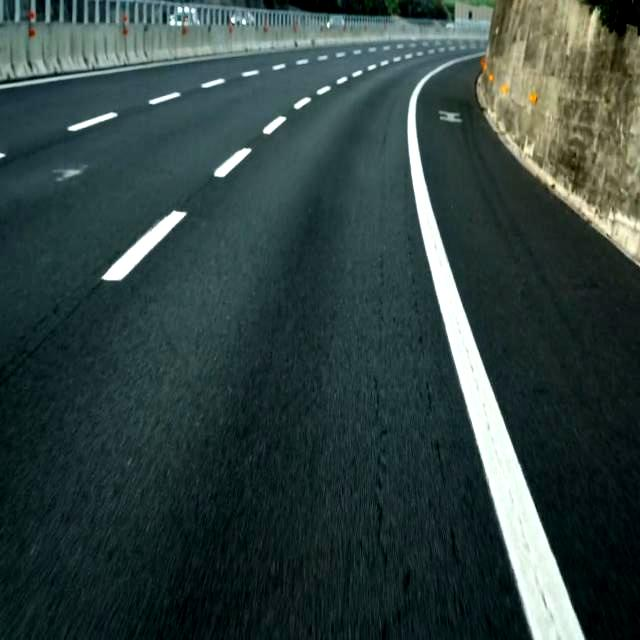lane: (408, 55, 585, 639), (102, 210, 186, 281), (214, 148, 251, 178), (215, 149, 249, 177), (68, 112, 118, 131), (262, 116, 286, 135), (149, 91, 181, 105), (292, 98, 311, 110), (201, 79, 225, 88), (94, 116, 107, 122), (242, 72, 259, 76), (318, 88, 331, 93), (109, 112, 116, 118)
road: (0, 49, 530, 639), (417, 60, 639, 639)
